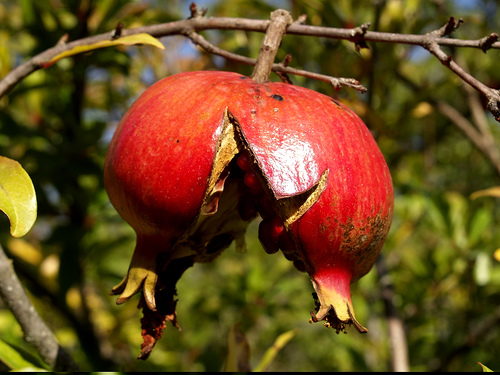pomogranate: (101, 68, 395, 363)
